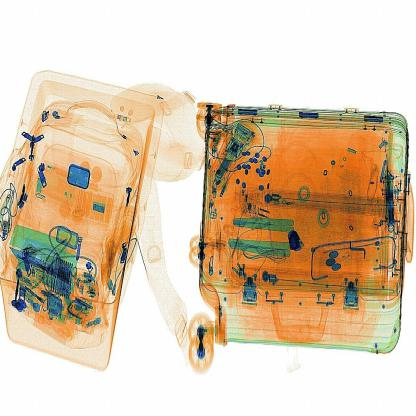scissors: (275, 220, 309, 256)
